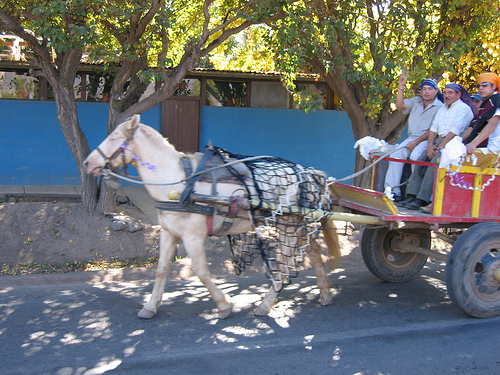horse: (83, 111, 344, 323)
